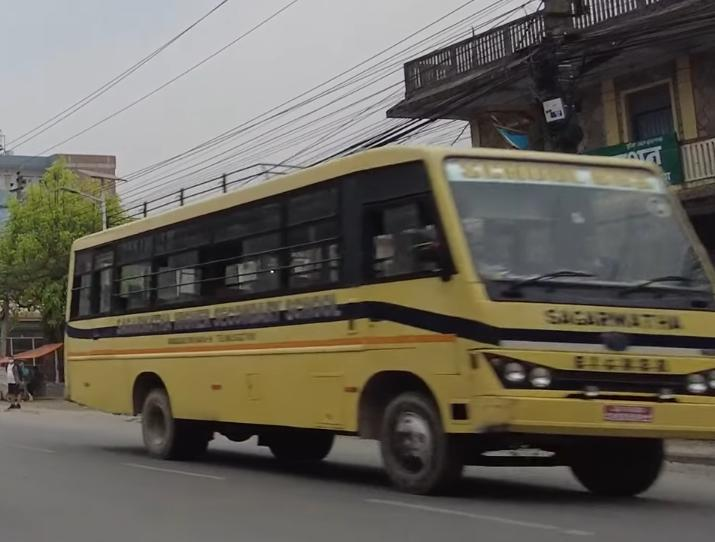school_bus: (62, 134, 715, 500)
